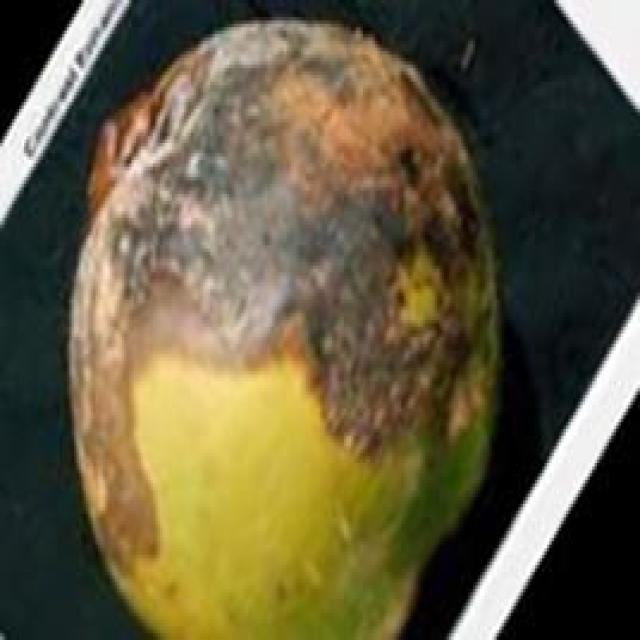damaged: (62, 17, 509, 637)
